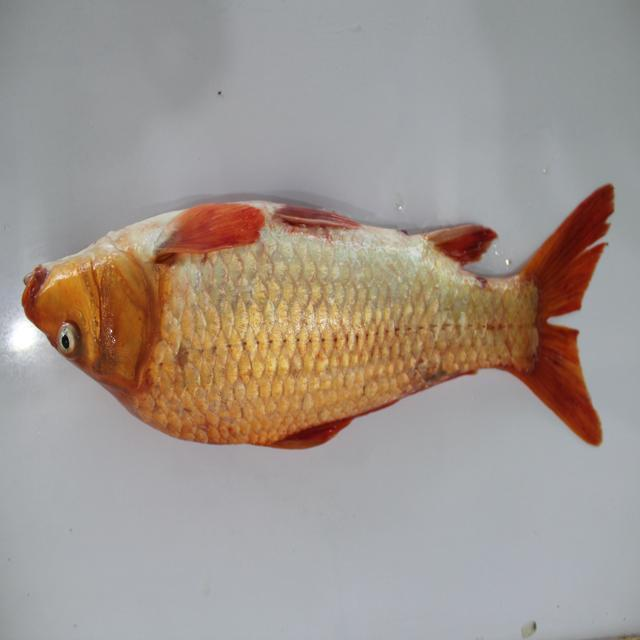Gold-Fish: (11, 140, 640, 485)
